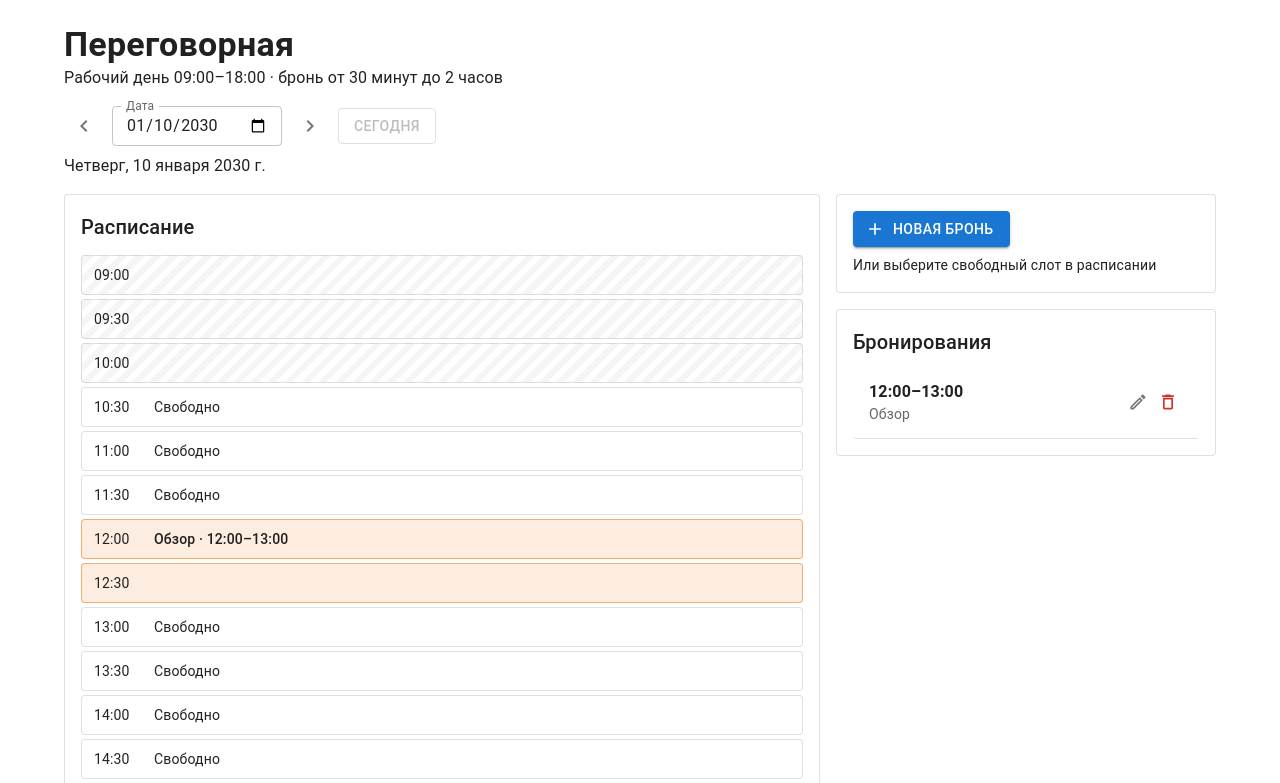
Test: редактирование и удаление › изменение брони не конфликтует с ней самой
Expected: the button "10:30 Свободно" is shown, [81,387,803,427]
Click the button "12:00 Обзор · 12:00–13:00": [112, 539] box [81,519,803,559]
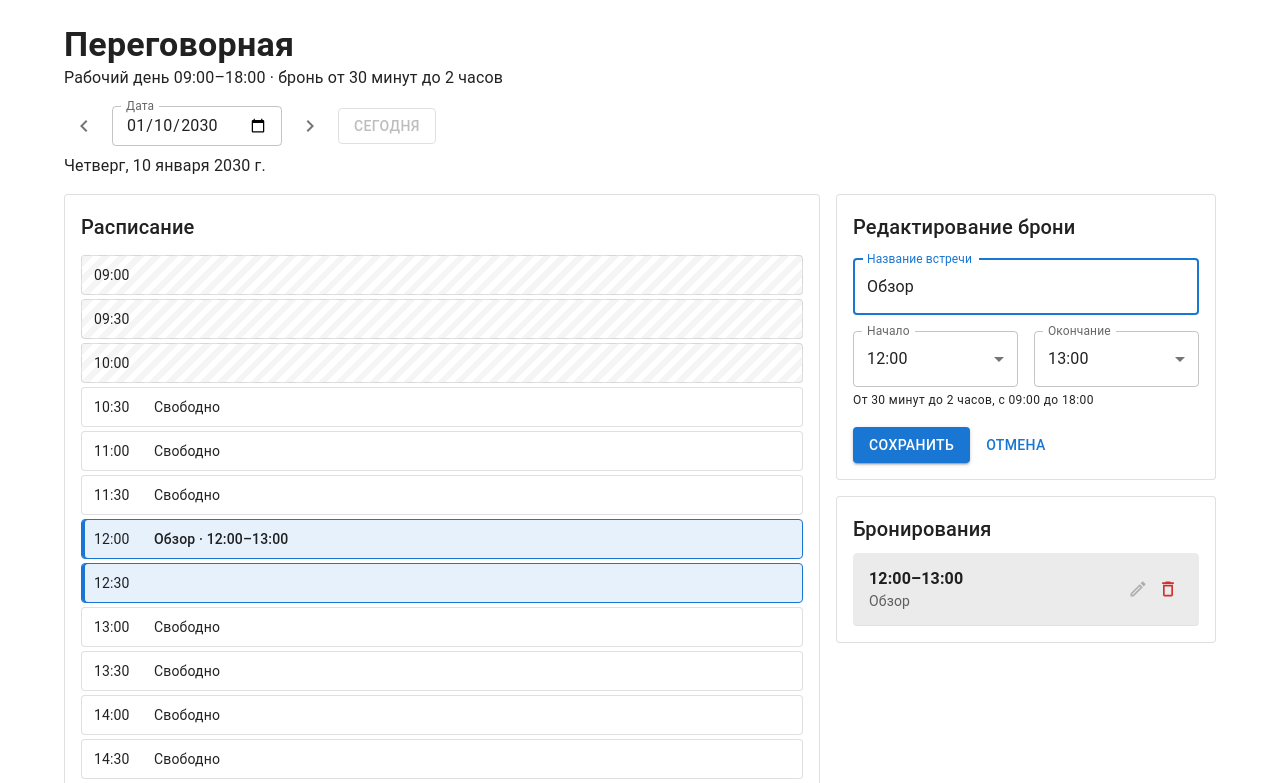
Expected: the heading "Редактирование брони" is shown, [853,215,1075,239]
Click the dropdown named "Окончание": [1068, 359] box [1048,350,1089,368]
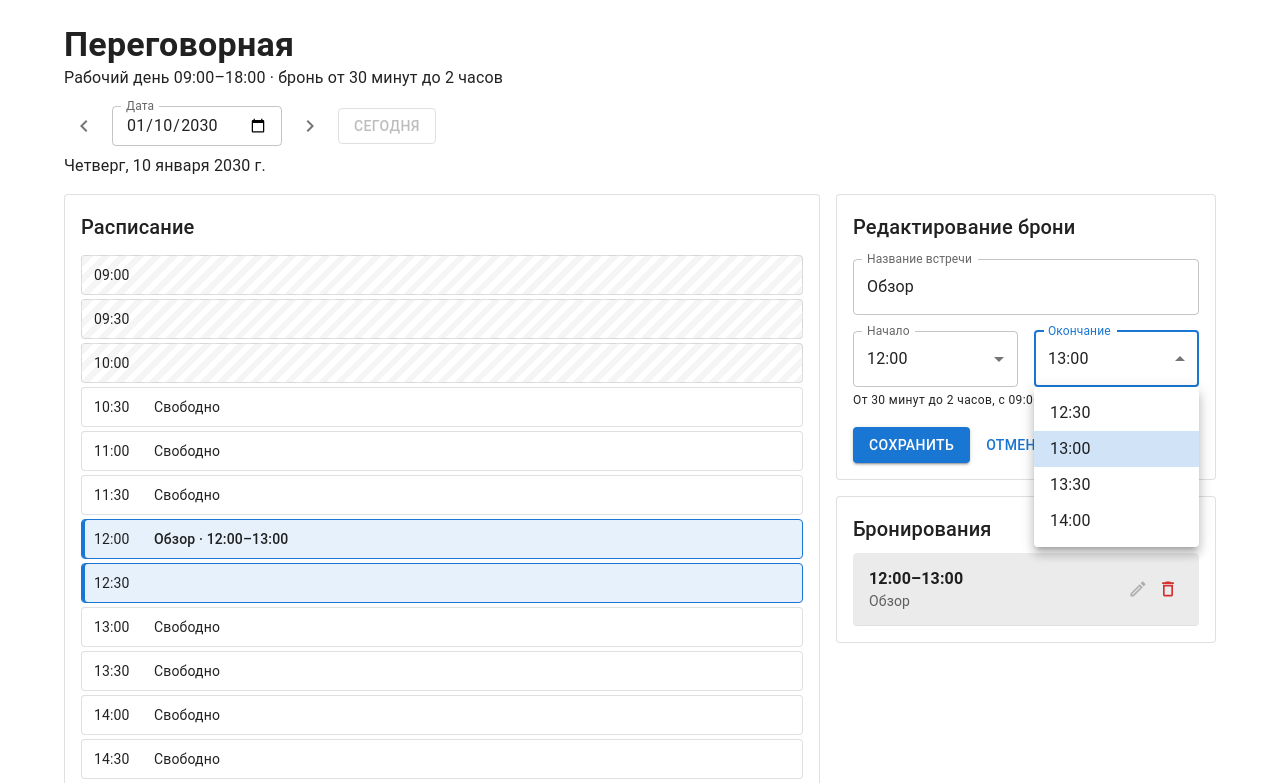
Click the option "13:30": [1070, 484] box [1050,475,1091,494]
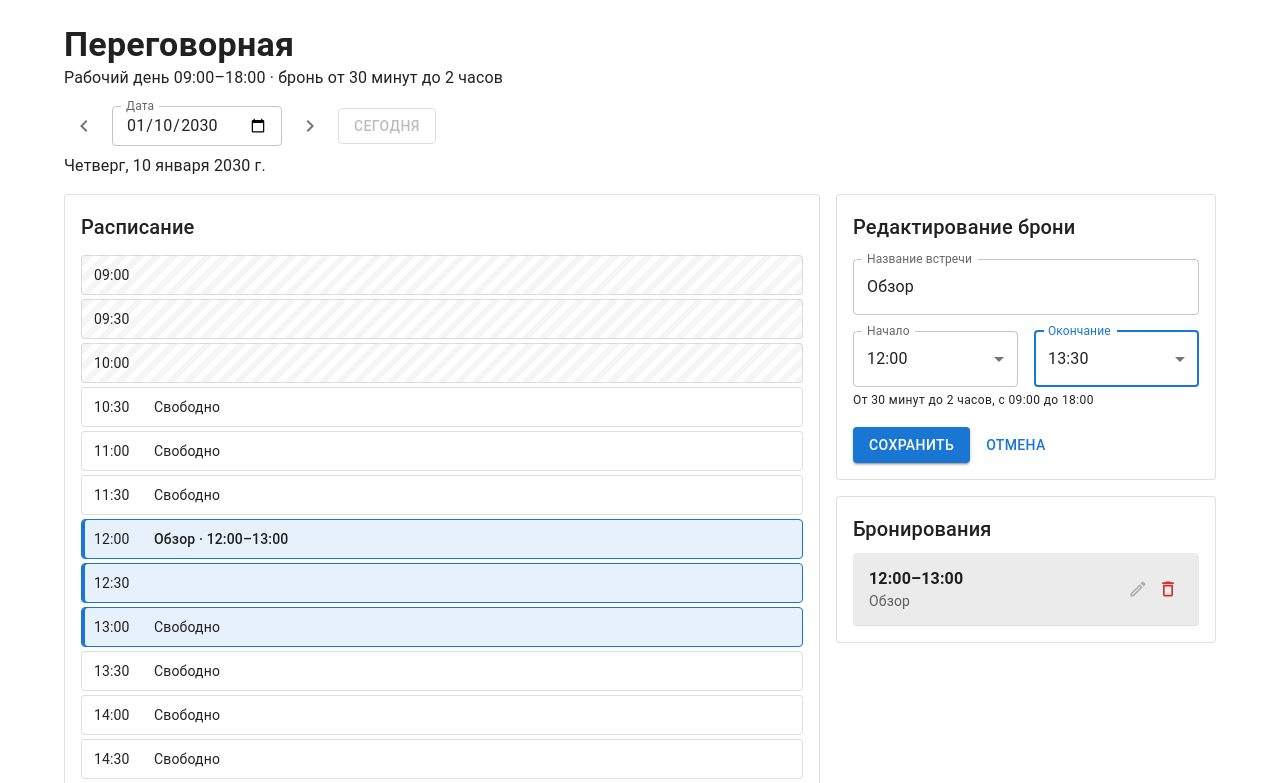
Click the button "Сохранить": [912, 445] box [853,427,970,463]
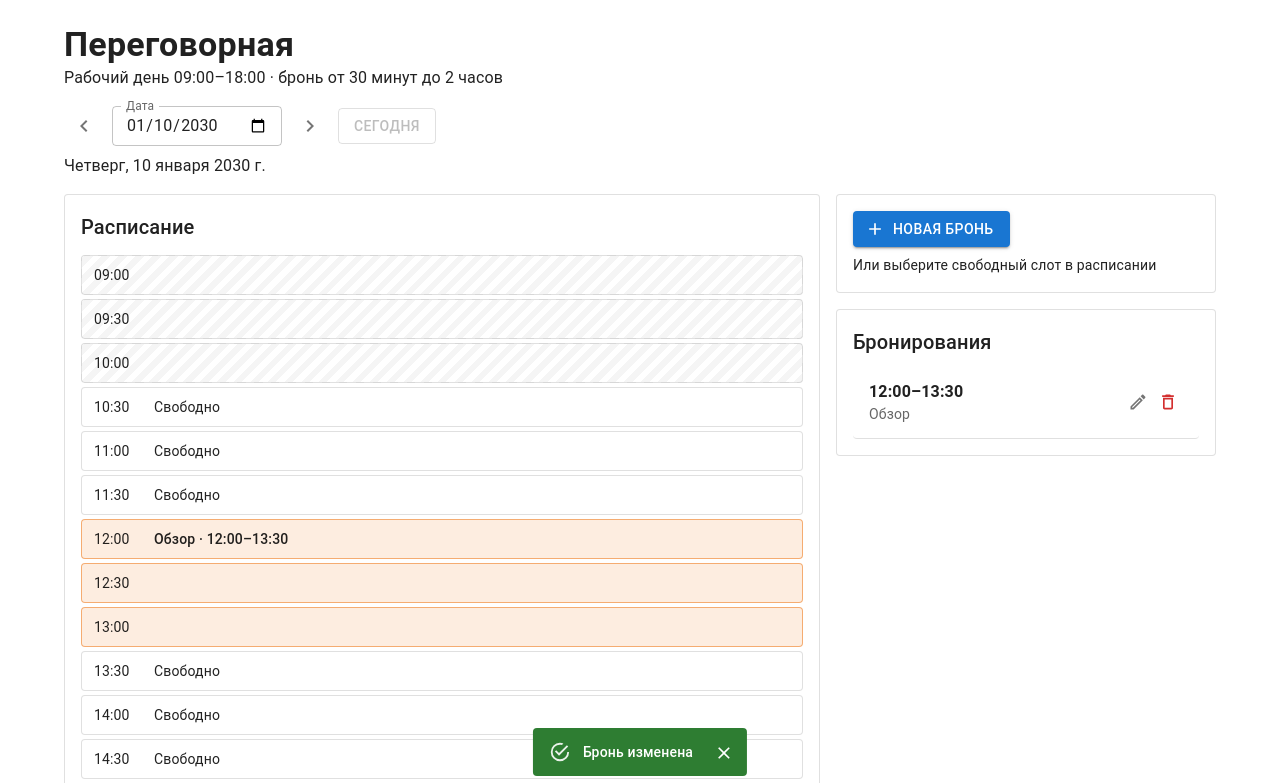
Expected: the text "Бронь изменена" is shown, [583,744,693,760]
